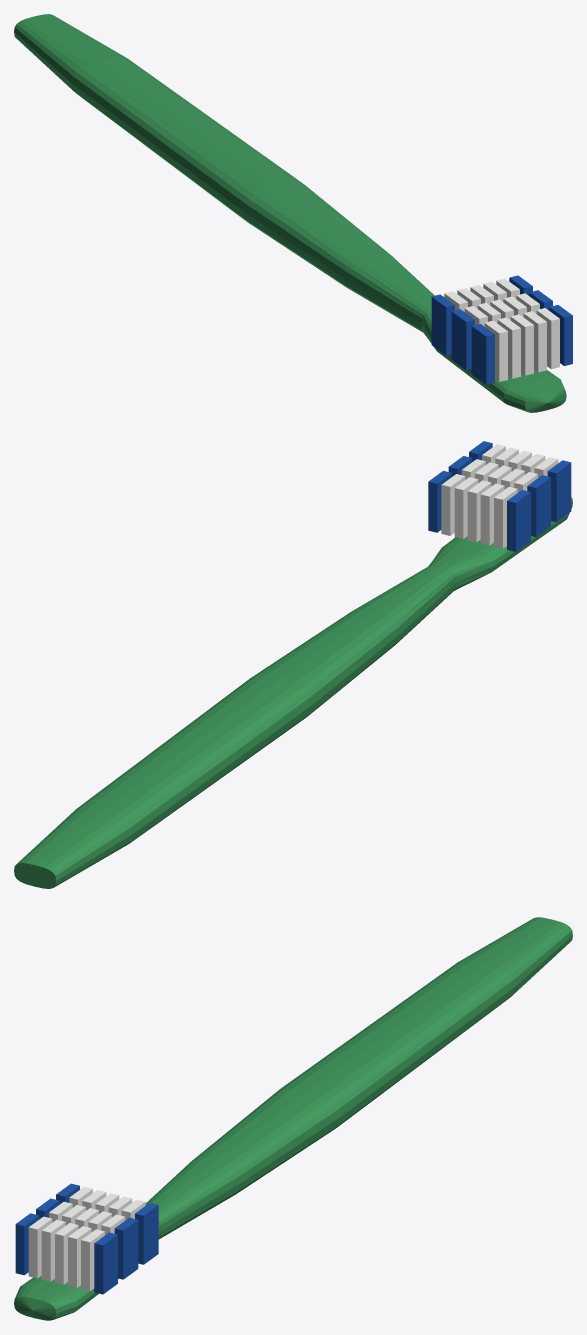
File: escova_dental.obj
3 renders of one model, top to bottom at view 1: azimuth 30°, elevation 25°; view 2: azimuth 150°, elevation 25°; view 3: azimuth 330°, elevation 25°, orthographic.
Visible parts, largest first — view 1: escova_dental_cabo, escova_dental_cerdas, escova_dental_cerdas_cor; view 2: escova_dental_cabo, escova_dental_cerdas, escova_dental_cerdas_cor; view 3: escova_dental_cabo, escova_dental_cerdas, escova_dental_cerdas_cor.
Part boxes in pixels (x1,y1,x2,y2): escova_dental_cabo: [14, 14, 566, 412]; escova_dental_cerdas: [444, 278, 559, 381]; escova_dental_cerdas_cor: [431, 275, 572, 384]; escova_dental_cabo: [14, 497, 572, 888]; escova_dental_cerdas: [441, 444, 558, 548]; escova_dental_cerdas_cor: [428, 441, 571, 551]; escova_dental_cabo: [14, 917, 572, 1320]; escova_dental_cerdas: [28, 1187, 145, 1291]; escova_dental_cerdas_cor: [15, 1183, 158, 1294].
Bounding box in the file's own units: 18.7 × 15.8 × 192.
